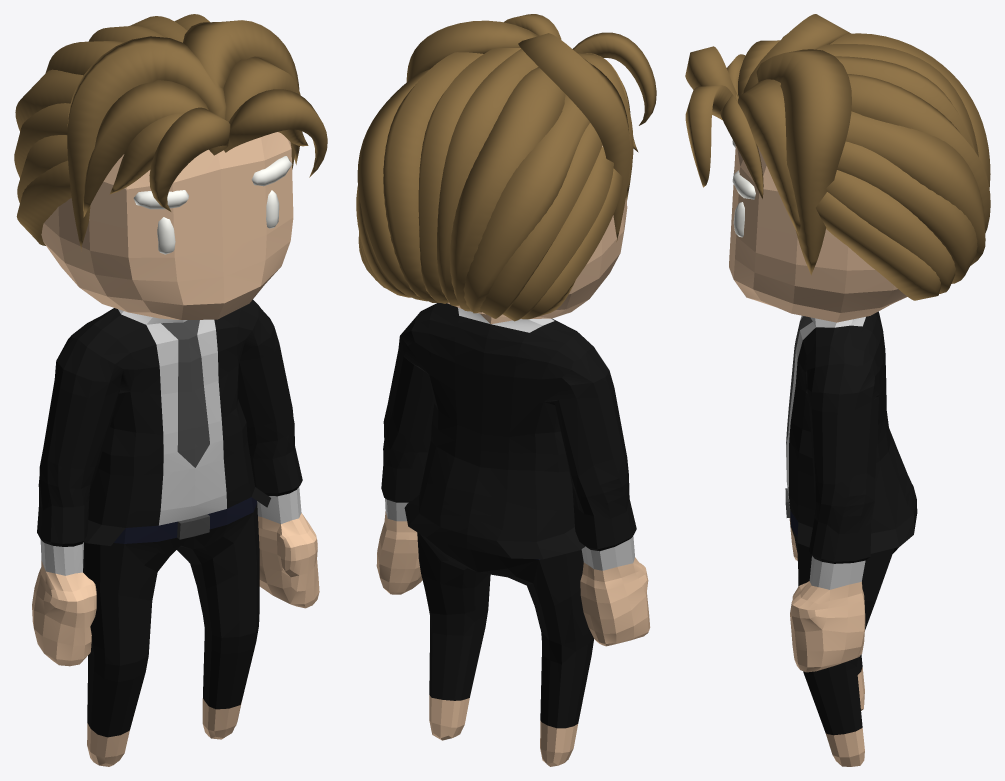
File: debout-suit-male.glb
3 renders of one model, left to right at view 1: azimuth 30°, elevation 25°; view 2: azimuth 150°, elevation 25°; view 3: azimuth 270°, elevation 25°, orthographic. The views are drawn at different scales.
Parts seen in each view (by area): view 1: Cube004_1, Cube004_6, Cube004, Cube004_3, Cube004_4, Cube004_5, Cube004_2; view 2: Cube004_1, Cube004_6, Cube004, Cube004_3; view 3: Cube004_6, Cube004_1, Cube004, Cube004_3, Cube004_5, Cube004_4.
Part boxes in pixels (x1=…): Cube004_1: x1=37, y1=300, x2=302, y2=737; Cube004_6: x1=14, y1=14, x2=327, y2=251; Cube004: x1=32, y1=132, x2=319, y2=766; Cube004_3: x1=40, y1=309, x2=301, y2=575; Cube004_4: x1=161, y1=320, x2=209, y2=539; Cube004_5: x1=133, y1=156, x2=292, y2=254; Cube004_2: x1=114, y1=497, x2=257, y2=543; Cube004_1: x1=381, y1=303, x2=636, y2=728; Cube004_6: x1=356, y1=14, x2=656, y2=321; Cube004: x1=376, y1=145, x2=650, y2=766; Cube004_3: x1=385, y1=307, x2=634, y2=570; Cube004_6: x1=685, y1=14, x2=990, y2=300; Cube004_1: x1=788, y1=311, x2=917, y2=735; Cube004: x1=729, y1=145, x2=907, y2=766; Cube004_3: x1=786, y1=315, x2=865, y2=589; Cube004_5: x1=732, y1=140, x2=755, y2=237; Cube004_4: x1=785, y1=316, x2=812, y2=517.
Bounding box in the file's own units: 0.7026 × 1.79 × 0.7062.
